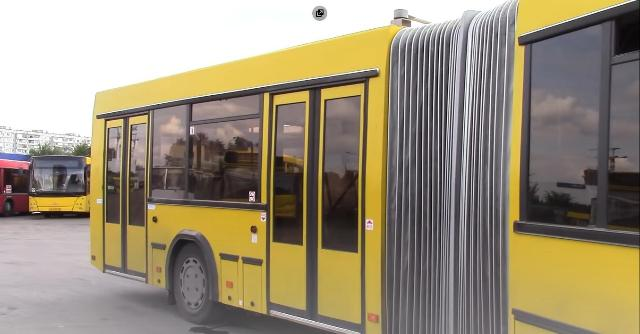bus: (65, 1, 640, 334), (29, 153, 97, 218)
